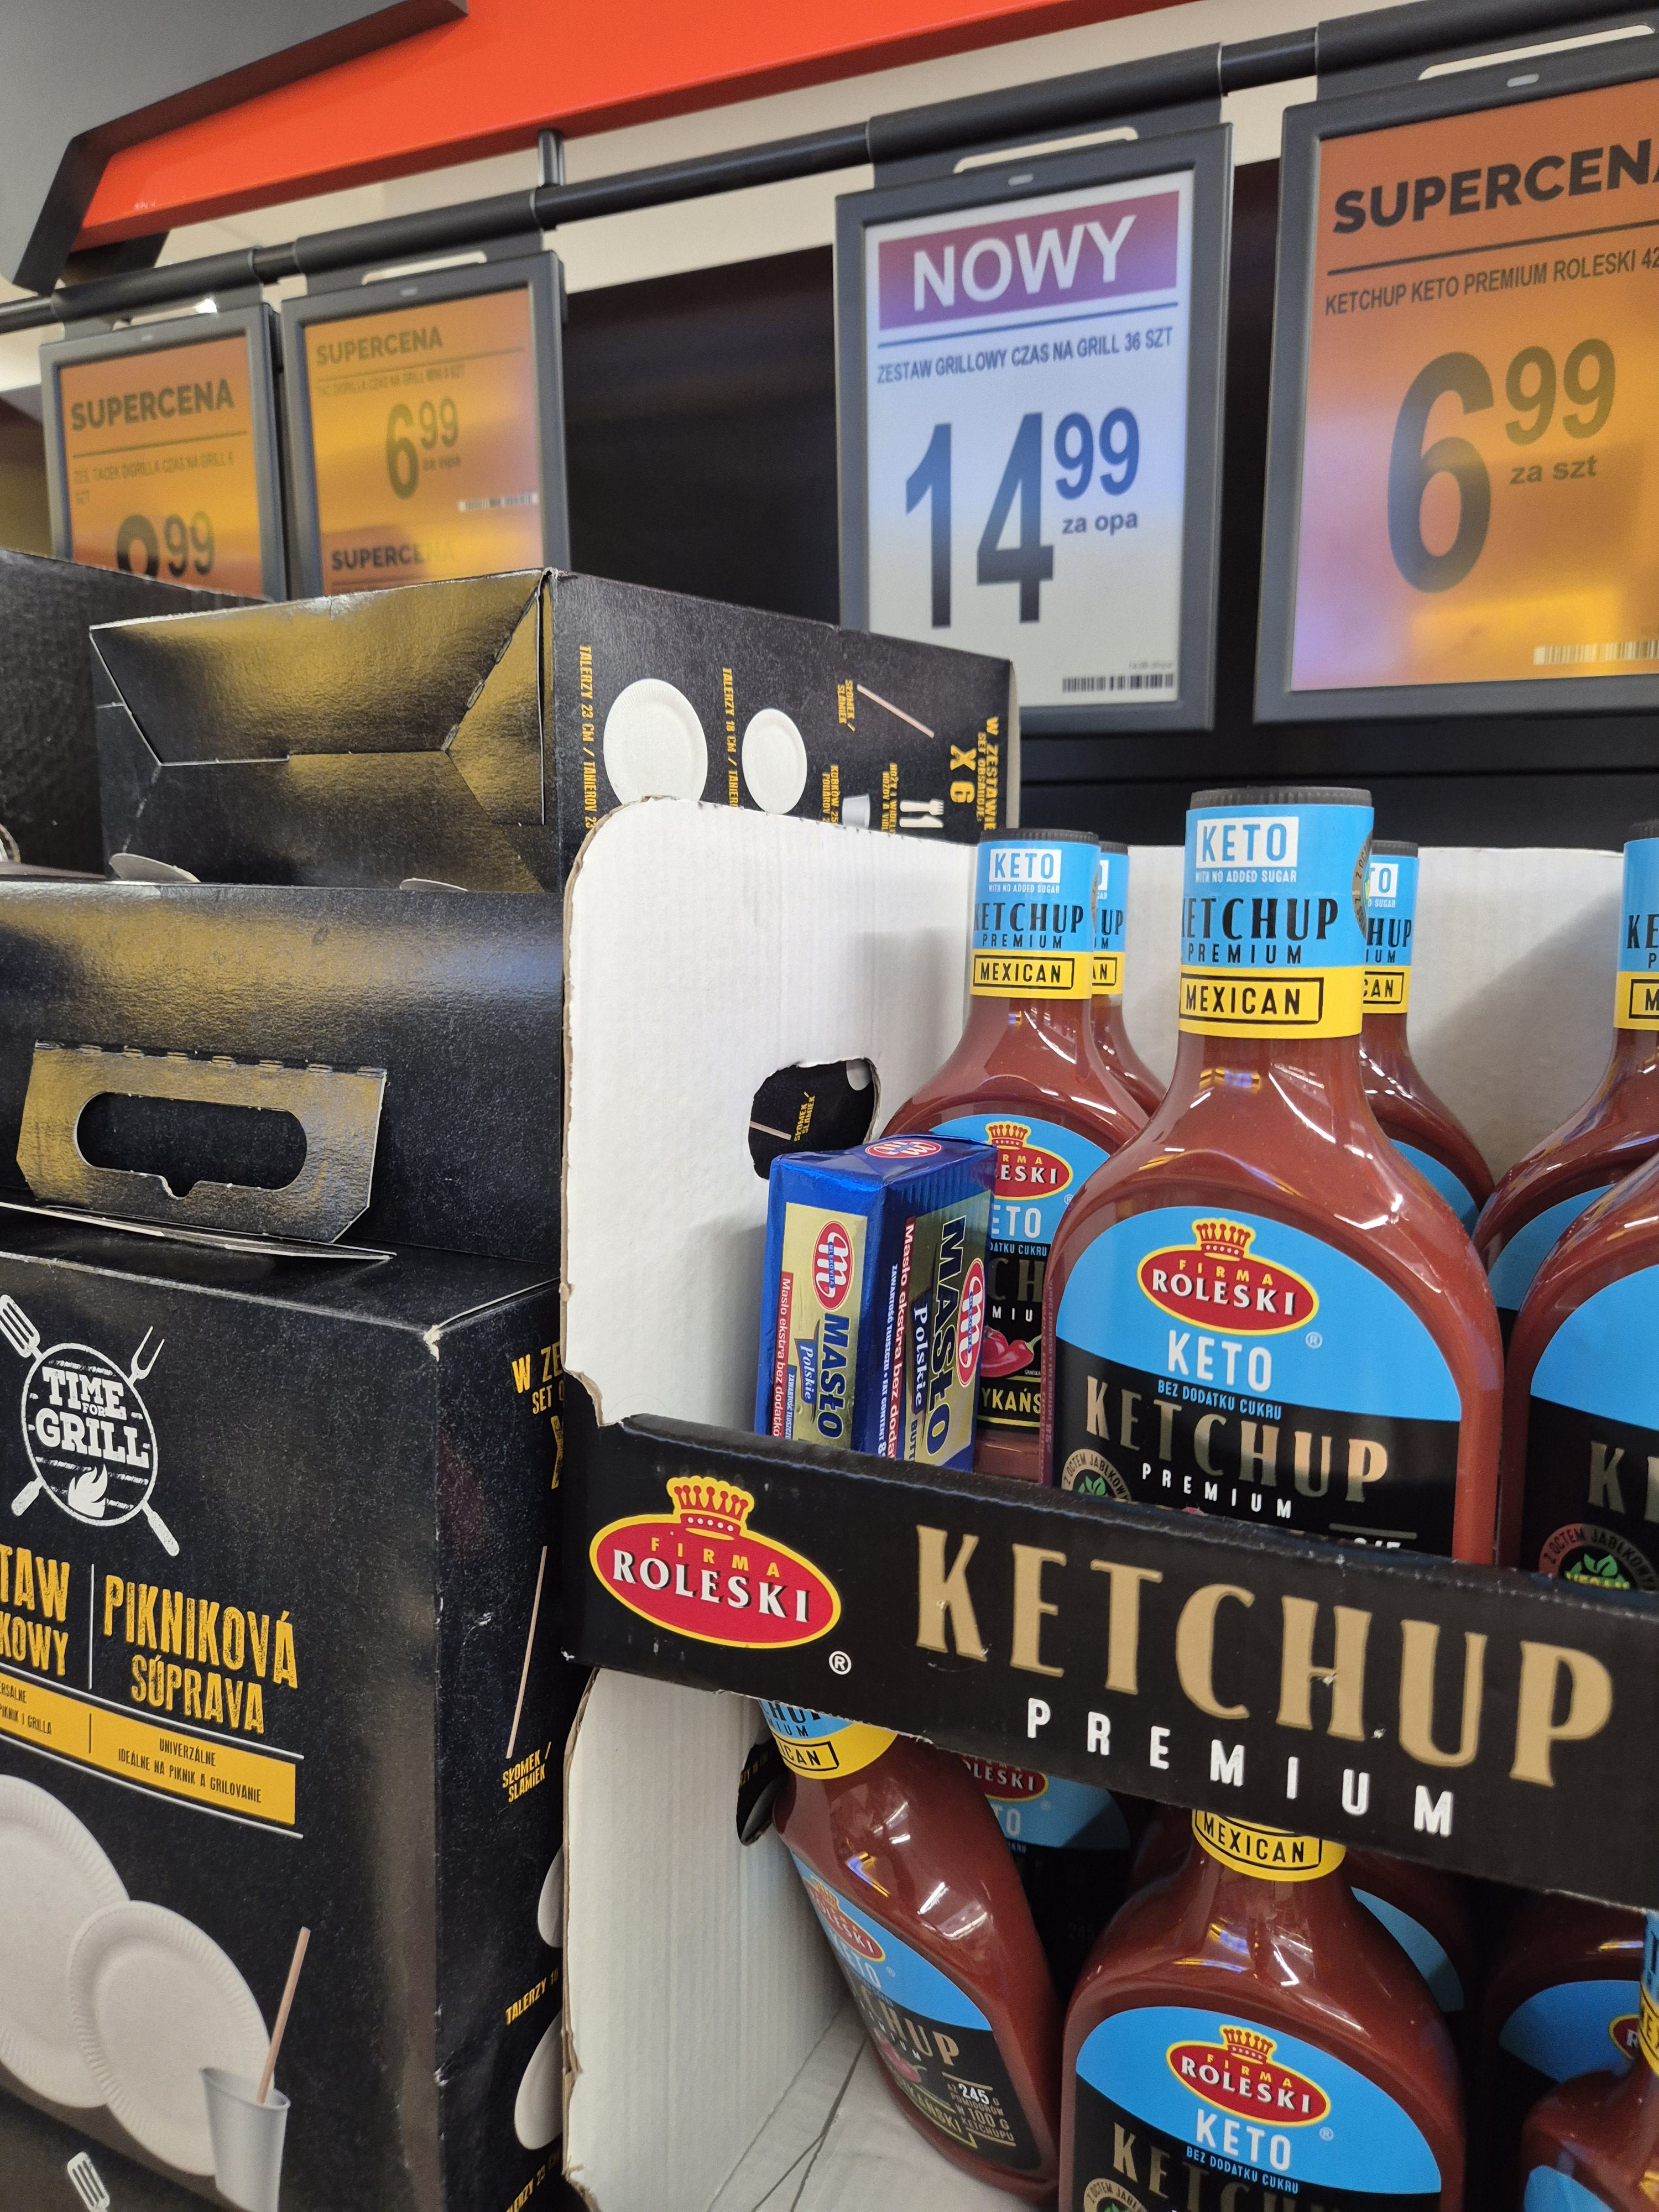Butter: (737, 1111, 1007, 1494)
